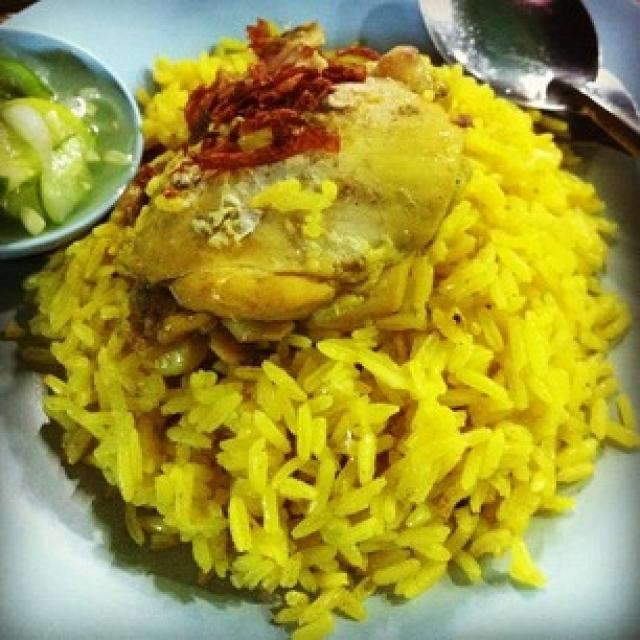米饭主食: (13, 4, 619, 626)
